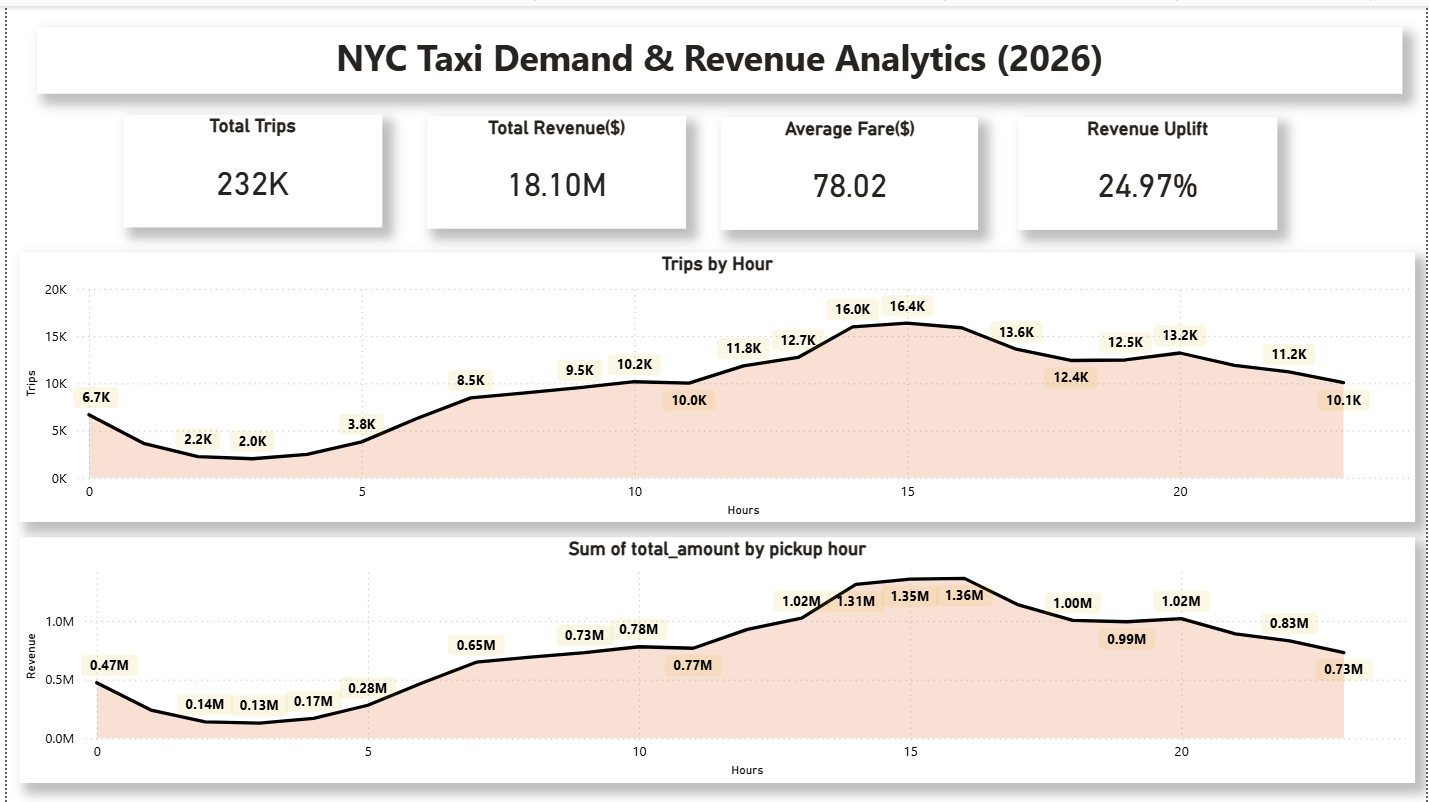

This screenshot's page, from the dashboard's own definition file:
{"tool":"powerbi","page":{"name":"Page 5","canvas":[1280,720],"ordinal":0},"visuals":[{"type":"card","title":"Total Trips","fields":{"Values":["CountNonNull(Cleaned_yellow_tripdata_2025-01.VendorID)"]},"box":[105.2,97.8,233.6,101.5],"z":0},{"type":"card","title":"Total Revenue($)","fields":{"Values":["Sum(Cleaned_yellow_tripdata_2025-01.total_amount)"]},"box":[379.1,99,233.6,101.5],"z":1000},{"type":"card","title":"Average Fare($)","fields":{"Values":["Measure.Avg Fare"]},"box":[643.2,100.3,232.3,101.5],"z":2000},{"type":"lineChart","title":"Trips by Hour","fields":{"Y":["CountNonNull(Cleaned_yellow_tripdata_2025-01.pickup hour)"],"Category":["Cleaned_yellow_tripdata_2025-01.pickup hour"]},"box":[11,222.6,1258.3,243.3],"z":3000},{"type":"lineChart","fields":{"Y":["Sum(Cleaned_yellow_tripdata_2025-01.total_amount)"],"Category":["Cleaned_yellow_tripdata_2025-01.pickup hour"]},"box":[11,479.4,1258.3,221.3],"z":4000},{"type":"card","title":"Revenue Uplift","fields":{"Values":["Measure.revenue uplift"]},"box":[912.2,100.3,233.6,101.5],"z":5000},{"type":"textbox","box":[26.9,19.6,1231.4,60],"z":5001}]}

Visuals, with their boxes in screenshot pixels (x1, y1, x2, y2), scaled from the page's 1280x720 canvas onto the 1429x802 screenshot:
"Total Trips" card: detection(117, 109, 378, 222)
"Total Revenue($)" card: detection(423, 110, 684, 223)
"Average Fare($)" card: detection(718, 112, 977, 225)
"Trips by Hour" lineChart: detection(12, 248, 1417, 519)
lineChart - Sum(Cleaned_yellow_tripdata_2025-01.total_amount) x Cleaned_yellow_tripdata_2025-01.pickup hour: detection(12, 534, 1417, 781)
"Revenue Uplift" card: detection(1018, 112, 1279, 225)
textbox: detection(30, 22, 1405, 89)
